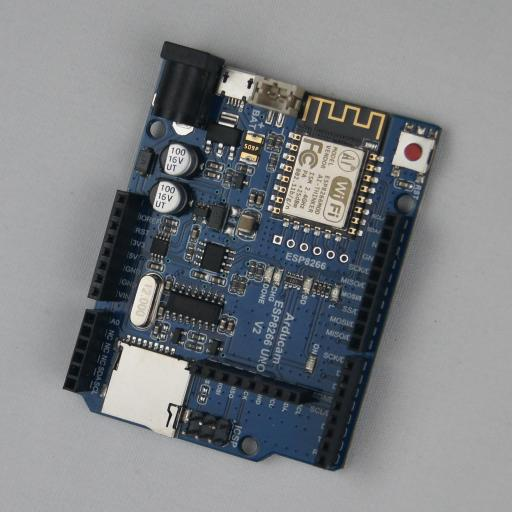Arduino Uno Camera Shield: (63, 41, 442, 471)
